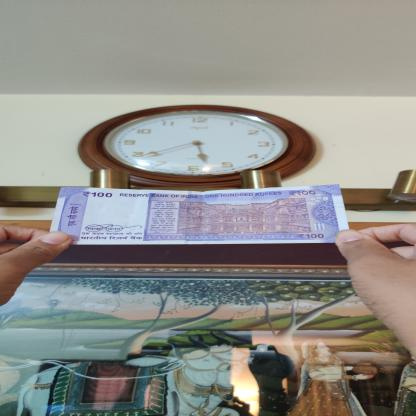New100Back: (46, 182, 357, 245)
